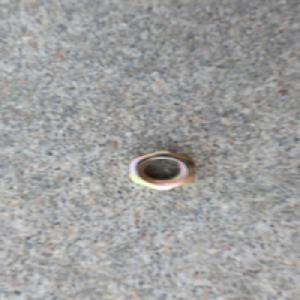Nut: (126, 149, 196, 192)
